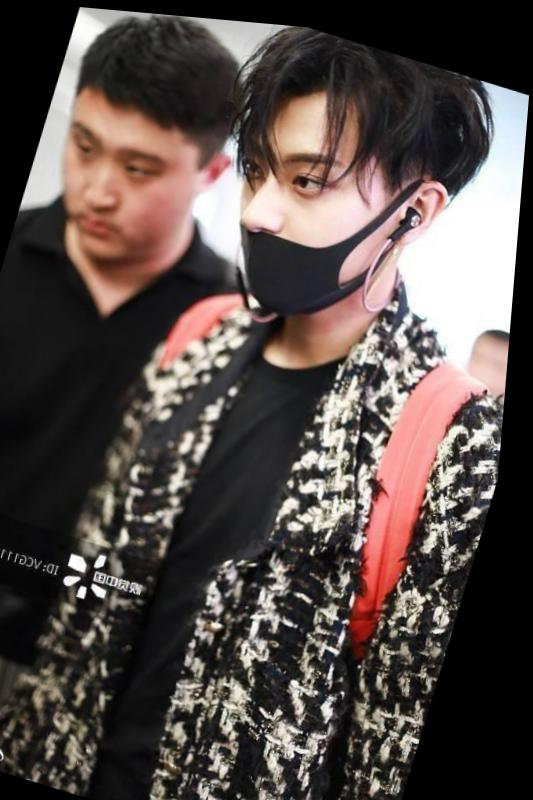NONE: (37, 102, 206, 279)
WRONG: (213, 91, 422, 335)
